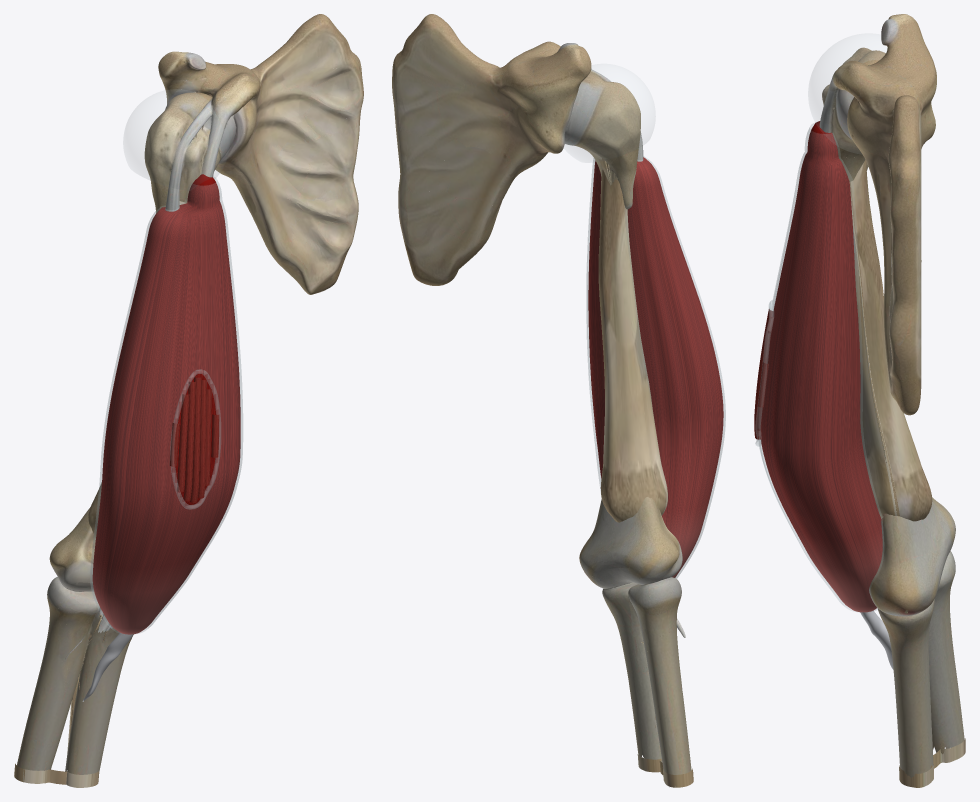
Rendered from biceps-braquial.glb.
The picture shows the model from 3 angles, left to right: view 1: azimuth 30°, elevation 25°; view 2: azimuth 150°, elevation 25°; view 3: azimuth 270°, elevation 25°; orthographic projection. The views are drawn at different scales.
Visible parts, largest first — view 1: epimisio, ventre, escapula, umero, radio, capsula_ombro, cartilagem_ombro, fasciculos, ulna, cartilagem_cotovelo, tendao_cabeca_longa, tendao_distal; view 2: escapula, umero, epimisio, ventre, capsula_ombro, radio, cartilagem_cotovelo, ulna, cartilagem_ombro; view 3: epimisio, ventre, escapula, umero, ulna, radio, capsula_ombro, cartilagem_cotovelo, cartilagem_ombro, fasciculos, tendao_distal.
Boxes of the visible parts, x1=… form: epimisio: x1=90, y1=177, x2=242, y2=633; ventre: x1=92, y1=174, x2=240, y2=634; escapula: x1=178, y1=14, x2=363, y2=294; umero: x1=47, y1=51, x2=208, y2=641; radio: x1=14, y1=630, x2=106, y2=784; capsula_ombro: x1=123, y1=89, x2=229, y2=190; cartilagem_ombro: x1=165, y1=52, x2=357, y2=258; fasciculos: x1=169, y1=377, x2=219, y2=502; ulna: x1=66, y1=634, x2=133, y2=787; cartilagem_cotovelo: x1=47, y1=574, x2=113, y2=669; tendao_cabeca_longa: x1=165, y1=110, x2=206, y2=211; tendao_distal: x1=82, y1=632, x2=133, y2=701; escapula: x1=392, y1=14, x2=596, y2=285; umero: x1=561, y1=45, x2=682, y2=636; epimisio: x1=586, y1=156, x2=725, y2=578; ventre: x1=588, y1=157, x2=723, y2=577; capsula_ombro: x1=563, y1=64, x2=655, y2=162; radio: x1=640, y1=628, x2=693, y2=787; cartilagem_cotovelo: x1=580, y1=551, x2=685, y2=655; ulna: x1=609, y1=608, x2=661, y2=772; cartilagem_ombro: x1=400, y1=43, x2=632, y2=223; epimisio: x1=755, y1=123, x2=883, y2=611; ventre: x1=761, y1=121, x2=882, y2=612; escapula: x1=830, y1=16, x2=936, y2=415; umero: x1=822, y1=14, x2=955, y2=636; ulna: x1=886, y1=626, x2=933, y2=787; radio: x1=928, y1=602, x2=965, y2=768; capsula_ombro: x1=808, y1=34, x2=886, y2=153; cartilagem_cotovelo: x1=884, y1=550, x2=955, y2=663; cartilagem_ombro: x1=821, y1=18, x2=921, y2=315; fasciculos: x1=754, y1=309, x2=773, y2=439; tendao_distal: x1=860, y1=610, x2=893, y2=669.
Bounding box in the file's own units: 0.174 × 0.3652 × 0.0861.
Materials: 7 (5 with a texture image).
